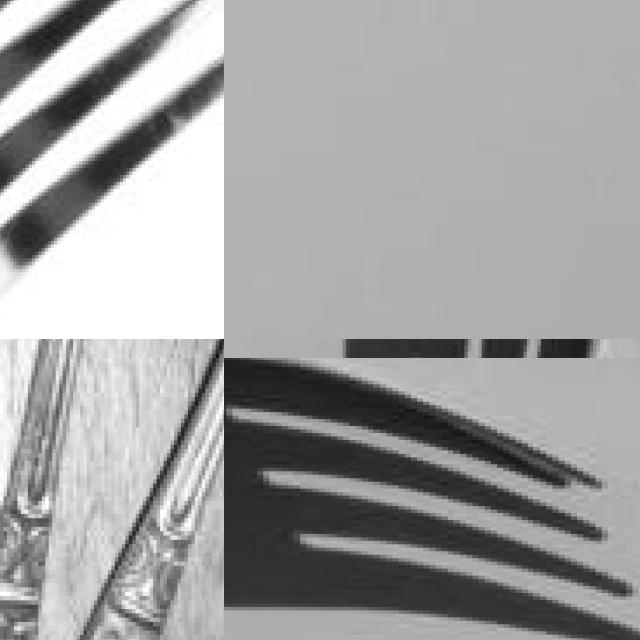forks: (253, 339, 636, 640), (0, 0, 224, 339)
